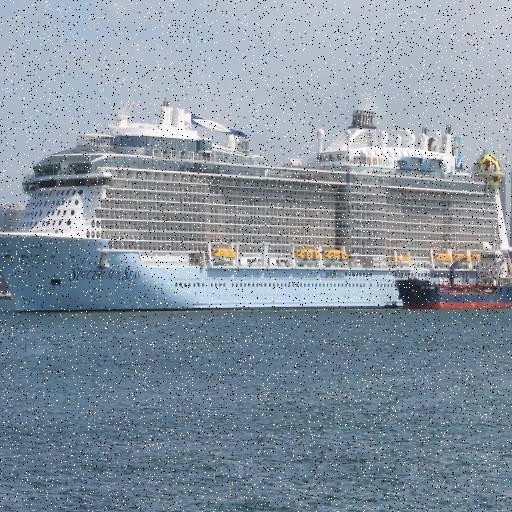cruises: (1, 96, 512, 317)
